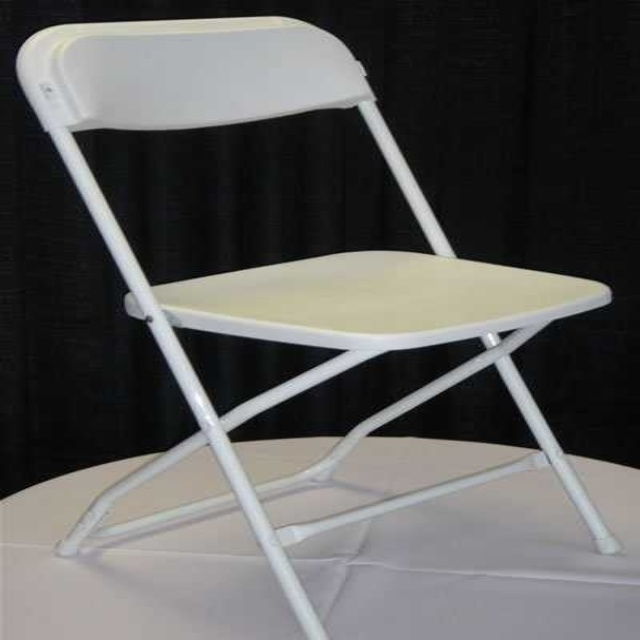obstacle: (18, 17, 619, 639)
